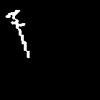double_crochet: (6, 10, 28, 57)
